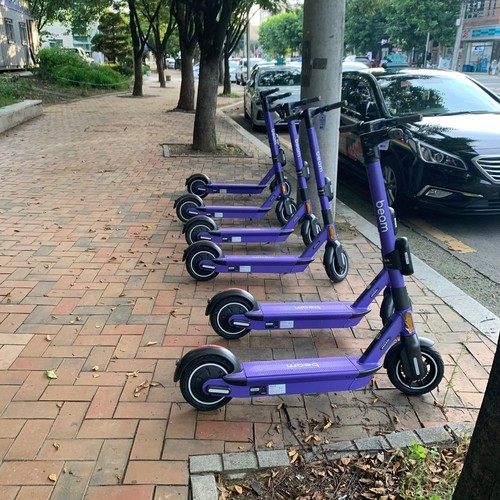scooter: (174, 116, 444, 408), (185, 88, 289, 196)
